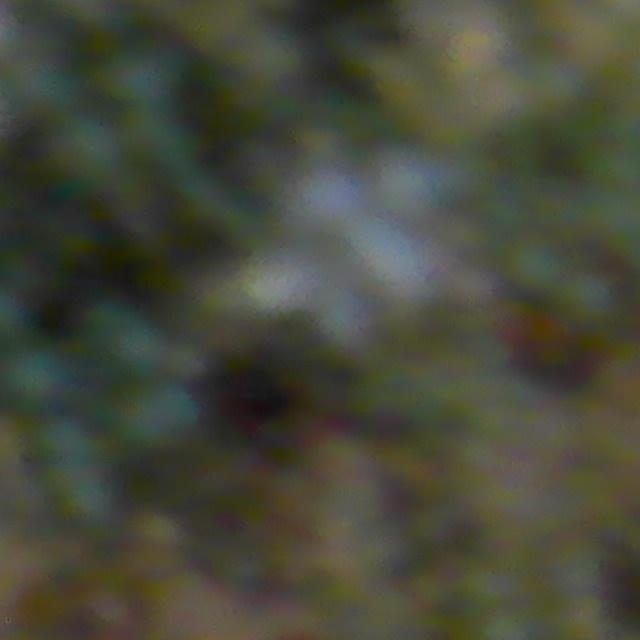SeaGrape: (352, 226, 433, 308), (119, 378, 202, 453), (51, 112, 128, 190), (365, 152, 439, 226), (103, 44, 180, 112), (1, 343, 74, 409), (283, 177, 352, 245), (243, 251, 309, 315), (557, 268, 622, 331), (505, 235, 567, 294), (316, 296, 373, 356)
